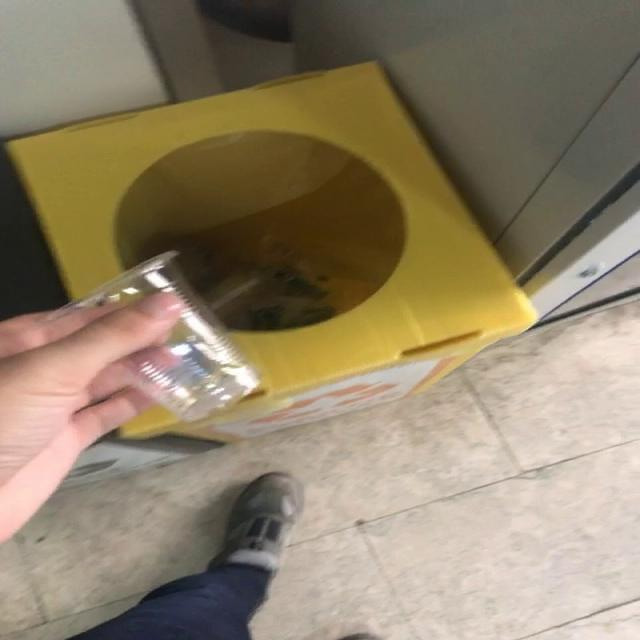Plastic: (49, 251, 260, 422)
